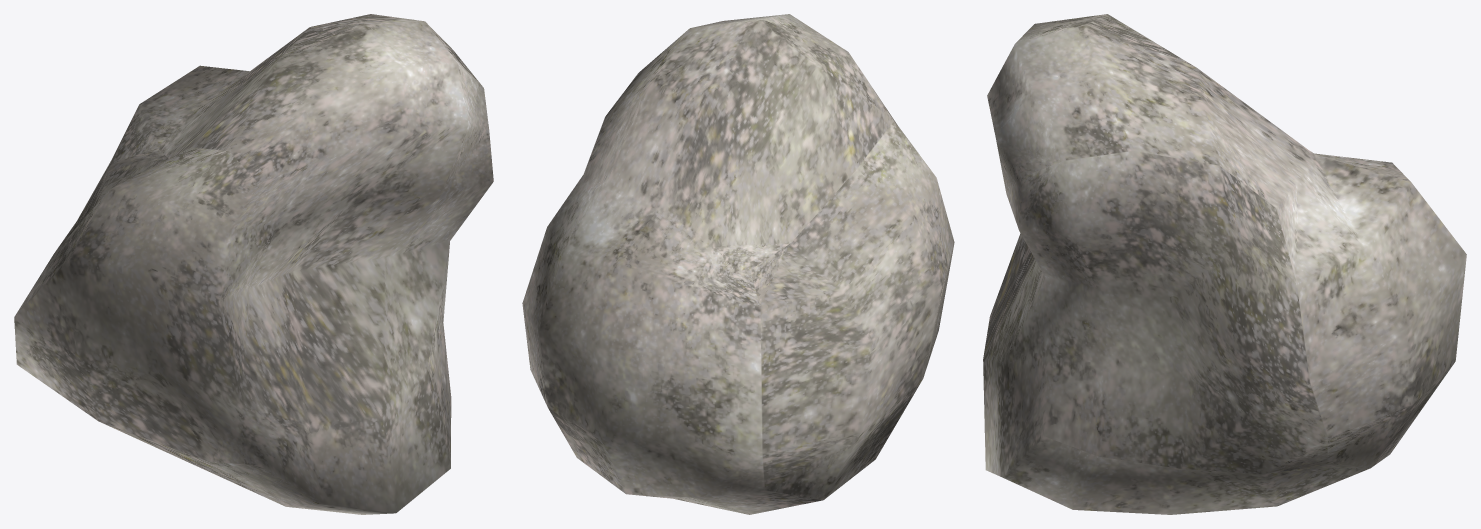
Rendered from inseki_3.fbx.
3 renders of one model, left to right at view 1: azimuth 30°, elevation 25°; view 2: azimuth 150°, elevation 25°; view 3: azimuth 270°, elevation 25°, orthographic. The views are drawn at different scales.
Visible parts, largest first — view 1: pCube1; view 2: pCube1; view 3: pCube1.
Boxes of the visible parts, x1,y1,x2,y2 form: pCube1: [14, 14, 493, 514]; pCube1: [522, 14, 954, 514]; pCube1: [983, 14, 1466, 514].
Bounding box in the file's own units: 4.57 × 5.12 × 4.64.
Materials: 1 (1 with a texture image).
